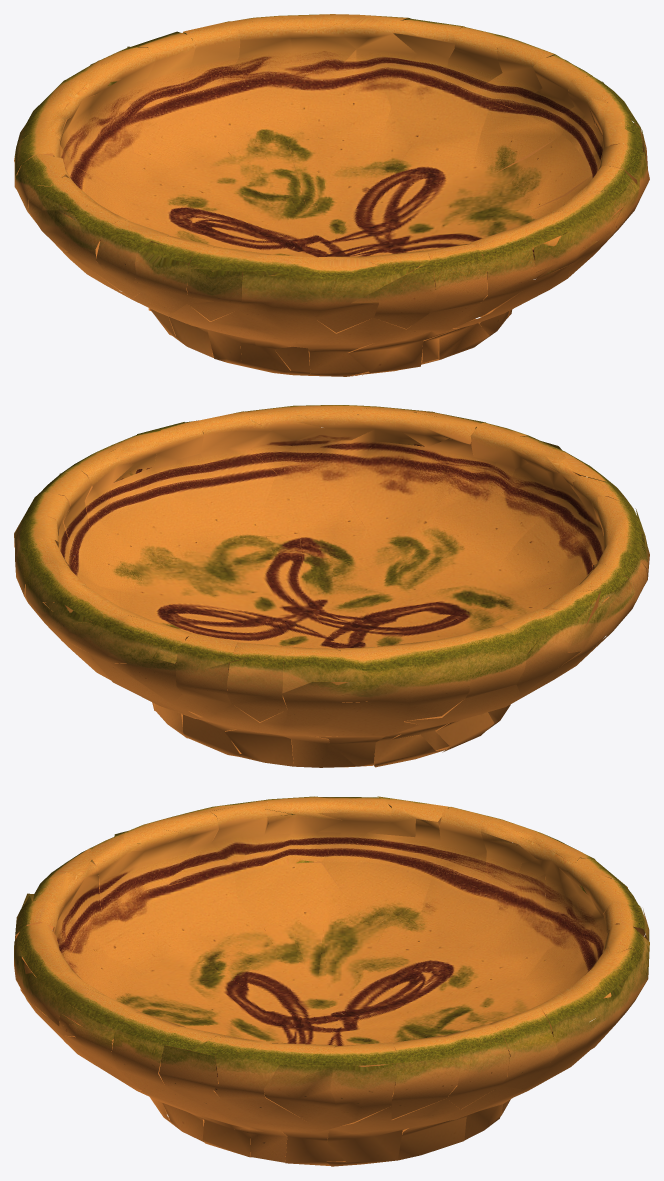
The model's file is mdl_ra4_plato.fbx.
3 views of the same model, one above another, from view 1: azimuth 30°, elevation 25°; view 2: azimuth 150°, elevation 25°; view 3: azimuth 270°, elevation 25° (orthographic).
Visible parts, largest first — view 1: SM_plato; view 2: SM_plato; view 3: SM_plato.
Boxes of the visible parts, x1,y1,x2,y2 form: SM_plato: (14, 14, 649, 376); SM_plato: (14, 405, 649, 767); SM_plato: (14, 796, 649, 1166).
Size of what is drawn, in the model's own units: 0.1711 by 0.0502 by 0.1711.
